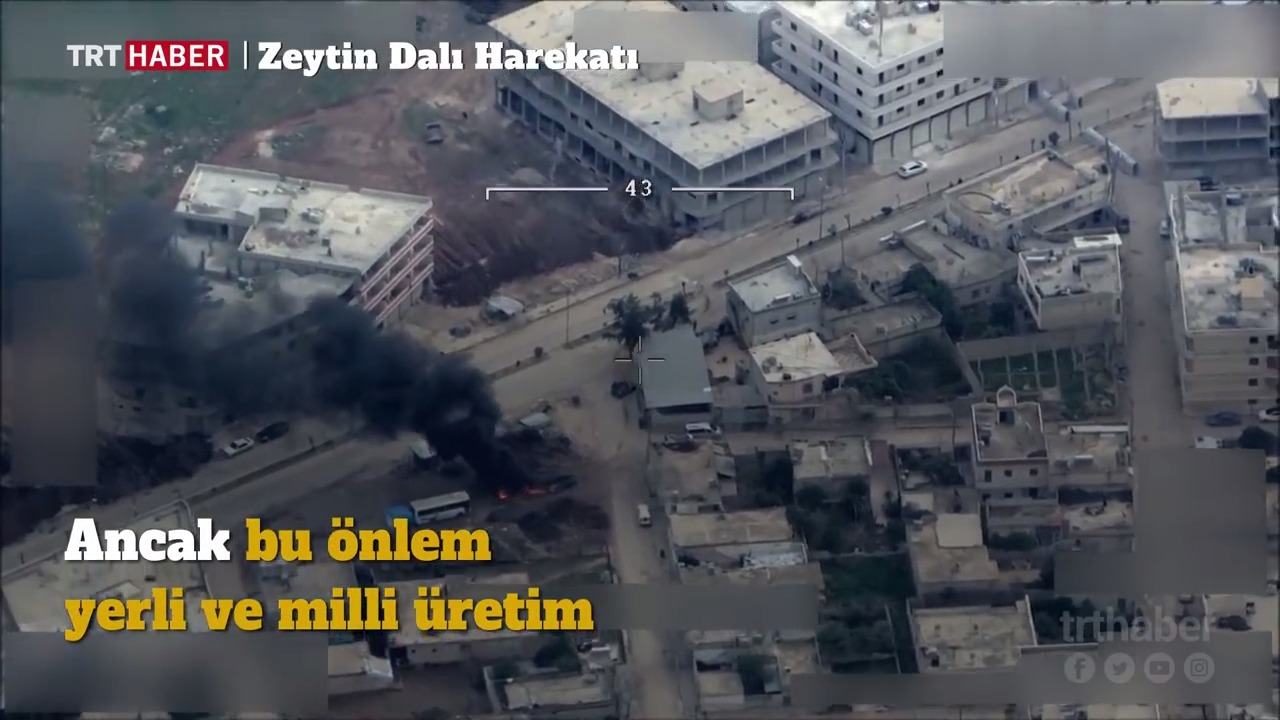arac: (675, 410, 724, 446), (892, 147, 935, 178), (1203, 399, 1247, 429), (627, 490, 660, 529), (216, 432, 252, 463), (255, 412, 292, 442), (610, 371, 642, 405), (1257, 395, 1280, 425), (1152, 216, 1177, 241), (1116, 207, 1135, 239)
